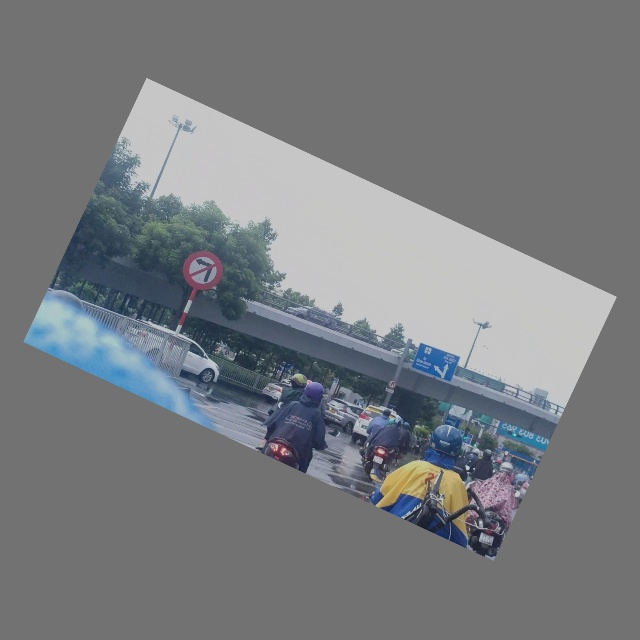P.123b: (174, 242, 232, 300)
P.124b1: (386, 378, 399, 392)
